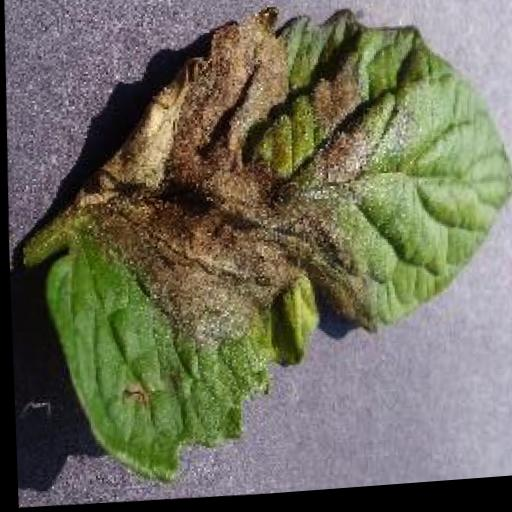Late Blight: (37, 0, 512, 494)
